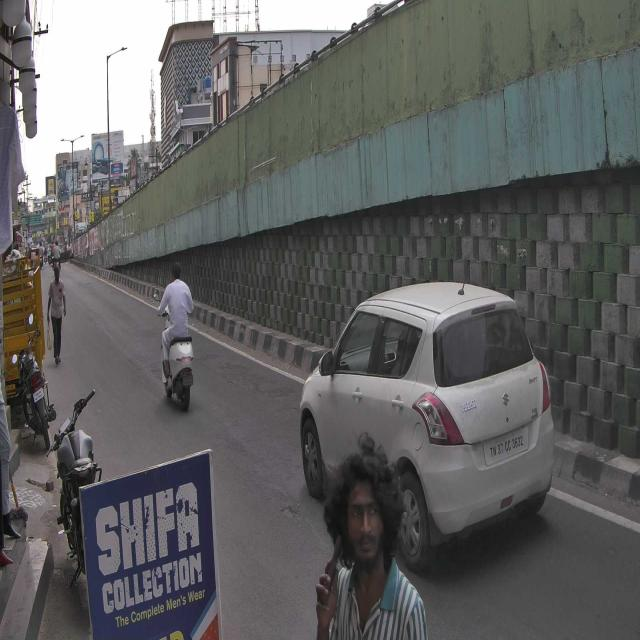single_rider: (154, 256, 200, 415)
